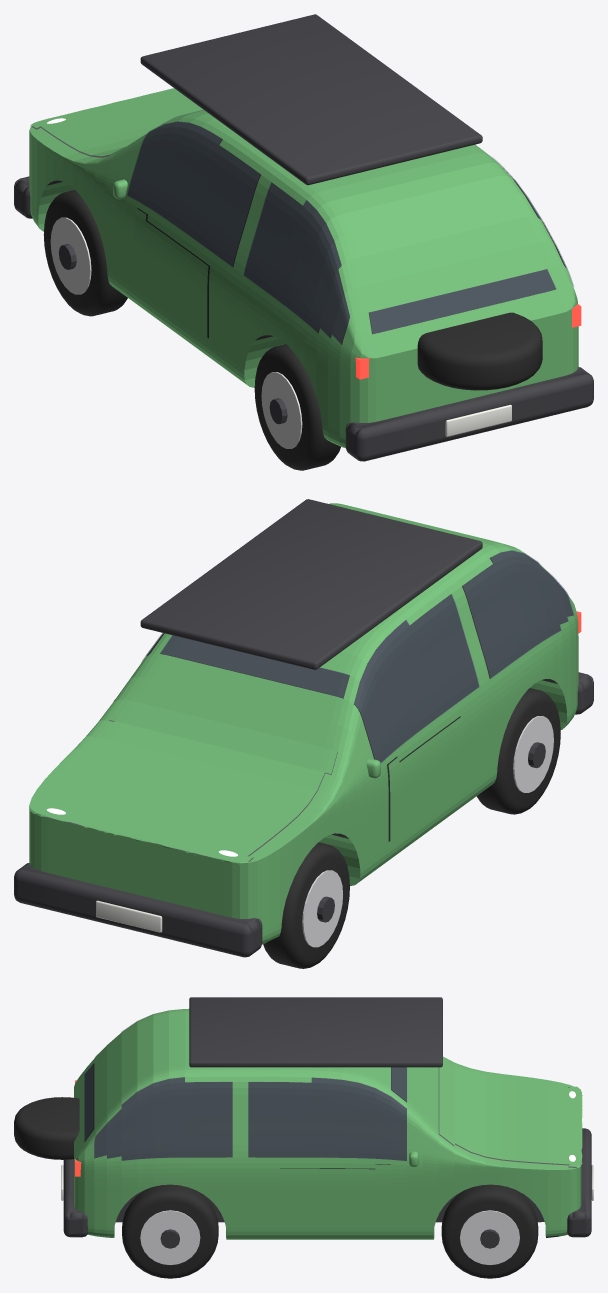
Rendered from car_bruno.glb.
The picture shows the model from 3 angles, top to bottom: view 1: azimuth 30°, elevation 25°; view 2: azimuth 150°, elevation 25°; view 3: azimuth 270°, elevation 25°; orthographic projection. The views are drawn at different scales.
Visible parts, largest first — view 1: body, extra_rack, glass_l, bumper_r, extra_spare, wheel_rl, wheel_fl, door_l, hood, glass_r, extra_plate_r, bumper_f; view 2: body, extra_rack, hood, glass_l, bumper_f, wheel_fl, wheel_rl, door_l, glass_f, extra_plate_f, bumper_r; view 3: body, glass_r_side, extra_rack, hood, wheel_fr, wheel_rr, door_r, extra_spare, bumper_f, bumper_r, glass_r, glass_f.
Boxes of the visible parts, x1=… form: body: x1=29, y1=110, x2=578, y2=448; extra_rack: x1=140, y1=14, x2=482, y2=185; glass_l: x1=127, y1=121, x2=349, y2=344; bumper_r: x1=345, y1=367, x2=593, y2=461; extra_spare: x1=417, y1=312, x2=542, y2=390; wheel_rl: x1=254, y1=344, x2=340, y2=470; wheel_fl: x1=43, y1=190, x2=127, y2=316; door_l: x1=134, y1=208, x2=208, y2=338; hood: x1=30, y1=88, x2=203, y2=156; glass_r: x1=369, y1=269, x2=556, y2=333; extra_plate_r: x1=445, y1=404, x2=511, y2=436; bumper_f: x1=14, y1=176, x2=32, y2=218; body: x1=29, y1=503, x2=578, y2=944; extra_rack: x1=140, y1=499, x2=482, y2=669; hood: x1=29, y1=699, x2=337, y2=864; glass_l: x1=354, y1=550, x2=574, y2=763; bumper_f: x1=14, y1=863, x2=262, y2=957; wheel_fl: x1=263, y1=842, x2=349, y2=968; wheel_rl: x1=476, y1=688, x2=560, y2=814; door_l: x1=388, y1=716, x2=463, y2=841; glass_f: x1=160, y1=635, x2=349, y2=697; extra_plate_f: x1=96, y1=900, x2=162, y2=932; bumper_r: x1=575, y1=672, x2=593, y2=714; body: x1=74, y1=1008, x2=581, y2=1239; glass_r_side: x1=94, y1=1077, x2=407, y2=1161; extra_rack: x1=189, y1=997, x2=442, y2=1067; hood: x1=439, y1=1056, x2=582, y2=1168; wheel_fr: x1=441, y1=1184, x2=538, y2=1278; wheel_rr: x1=122, y1=1184, x2=218, y2=1278; door_r: x1=280, y1=1164, x2=390, y2=1224; extra_spare: x1=14, y1=1097, x2=79, y2=1159; bumper_f: x1=567, y1=1128, x2=591, y2=1237; bumper_r: x1=63, y1=1159, x2=87, y2=1237; glass_r: x1=84, y1=1063, x2=93, y2=1141; glass_f: x1=391, y1=1067, x2=407, y2=1101.
Bounding box in the file's own units: 2.01 × 1.97 × 5.03.
